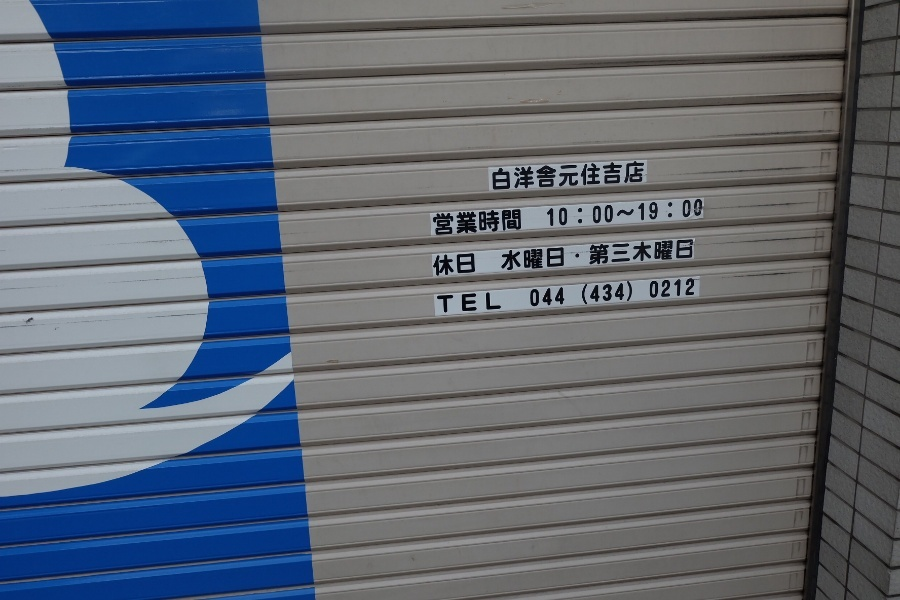text: (497, 161, 512, 191), (513, 161, 528, 191), (529, 161, 544, 191), (545, 161, 560, 191), (561, 161, 576, 191), (577, 161, 592, 191), (593, 161, 608, 191), (609, 161, 624, 191), (625, 161, 640, 191), (545, 278, 560, 307), (561, 278, 576, 307), (577, 278, 592, 307), (593, 278, 608, 307), (609, 278, 624, 307), (625, 278, 640, 307), (641, 278, 656, 307), (657, 278, 672, 307), (673, 278, 688, 307), (561, 199, 576, 227), (577, 199, 592, 227), (593, 199, 608, 227), (609, 199, 624, 227), (625, 199, 640, 227), (641, 199, 656, 227), (657, 199, 672, 227), (673, 199, 688, 227), (593, 239, 608, 266), (609, 239, 624, 266), (625, 239, 640, 266), (641, 239, 656, 266), (657, 239, 672, 266), (673, 239, 688, 266), (433, 210, 448, 236), (449, 210, 464, 236), (465, 210, 480, 236), (481, 210, 496, 236), (497, 210, 512, 236), (531, 278, 544, 307), (547, 199, 560, 227), (689, 199, 702, 227), (513, 247, 528, 271), (529, 247, 544, 271), (545, 247, 560, 271), (561, 247, 576, 271), (433, 253, 448, 276), (449, 253, 464, 276), (449, 292, 464, 313), (465, 292, 480, 313), (481, 292, 496, 313), (502, 247, 512, 271), (437, 292, 448, 313), (465, 253, 475, 276), (513, 210, 521, 236), (689, 278, 694, 307), (493, 161, 496, 191), (641, 161, 644, 191), (497, 292, 501, 313), (689, 239, 692, 266), (561, 247, 564, 271), (577, 247, 580, 271), (590, 239, 592, 266)
